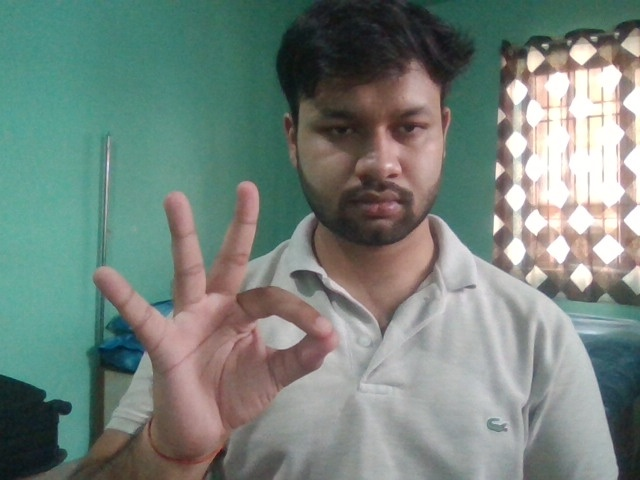Ok: (92, 180, 343, 467)
